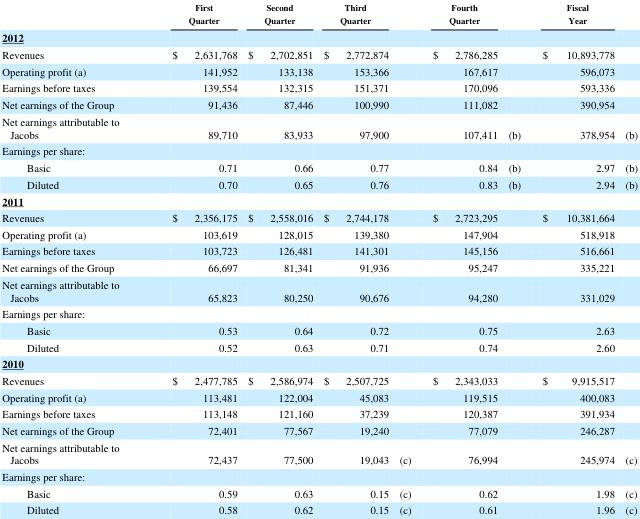table: (1, 1, 637, 516)
table column: (1, 1, 145, 516), (421, 1, 530, 516), (530, 1, 637, 516), (317, 1, 421, 516), (145, 1, 242, 516), (242, 1, 317, 516)
table column header: (1, 1, 637, 28)
table projected row header: (1, 28, 637, 45), (1, 141, 637, 158), (1, 191, 637, 208), (1, 304, 637, 321), (1, 354, 637, 371), (1, 467, 637, 484)
table row: (1, 112, 637, 141), (1, 275, 637, 304), (1, 438, 637, 467), (1, 1, 637, 28), (1, 28, 637, 45), (1, 45, 637, 62), (1, 78, 637, 95), (1, 95, 637, 112), (1, 141, 637, 158), (1, 158, 637, 175), (1, 191, 637, 208), (1, 208, 637, 225), (1, 241, 637, 258), (1, 258, 637, 275), (1, 304, 637, 321), (1, 321, 637, 338), (1, 354, 637, 371), (1, 371, 637, 388), (1, 404, 637, 421), (1, 421, 637, 438), (1, 467, 637, 484), (1, 62, 637, 78), (1, 175, 637, 191), (1, 225, 637, 241), (1, 338, 637, 354), (1, 388, 637, 404), (1, 484, 637, 500), (1, 500, 637, 516)
